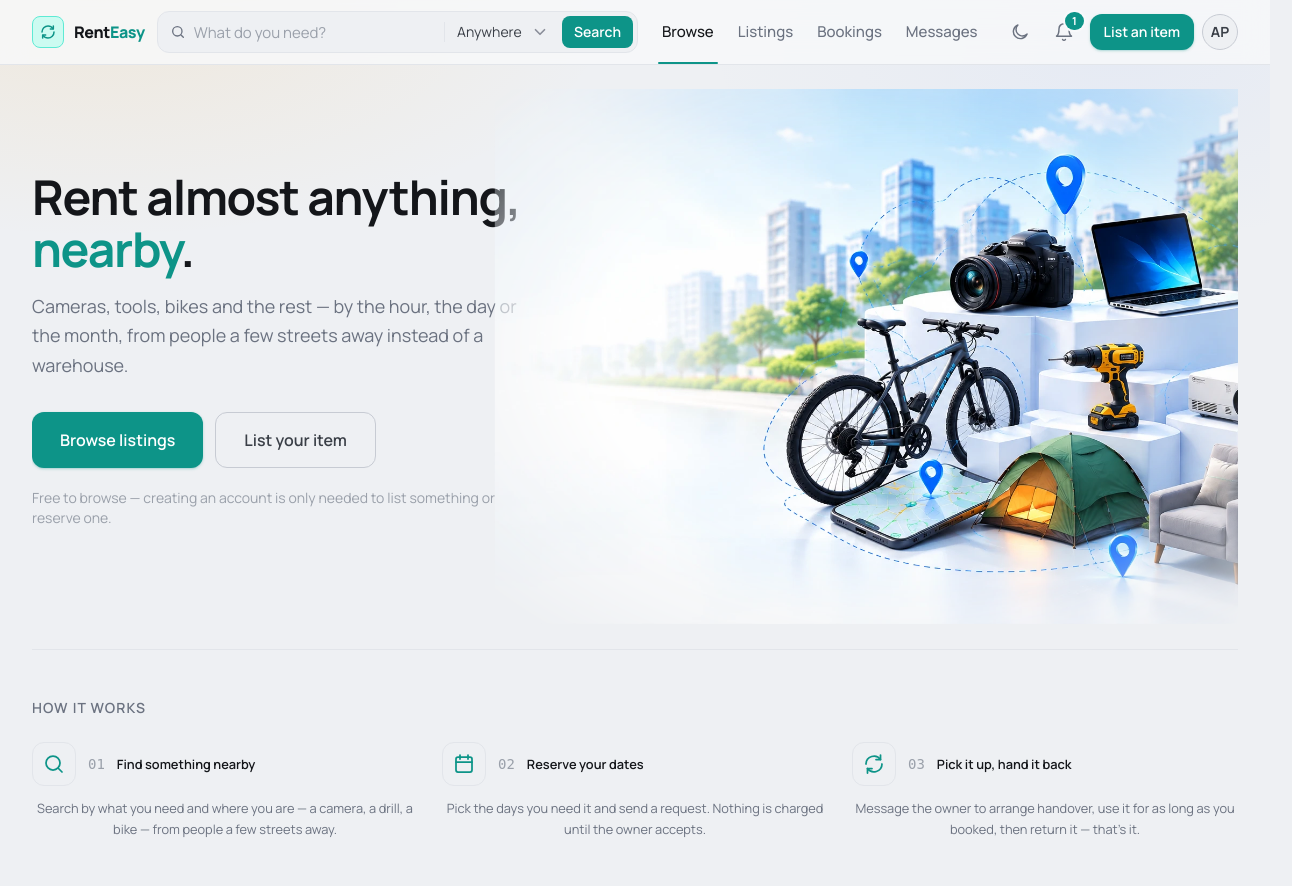
Scenario: the bell › fetches the list only once it is opened
What coordinates should you click on to do the following:
click the button named "1 unread"
I would click on:
 (1064, 32)
Its box is [1046,14,1082,50].
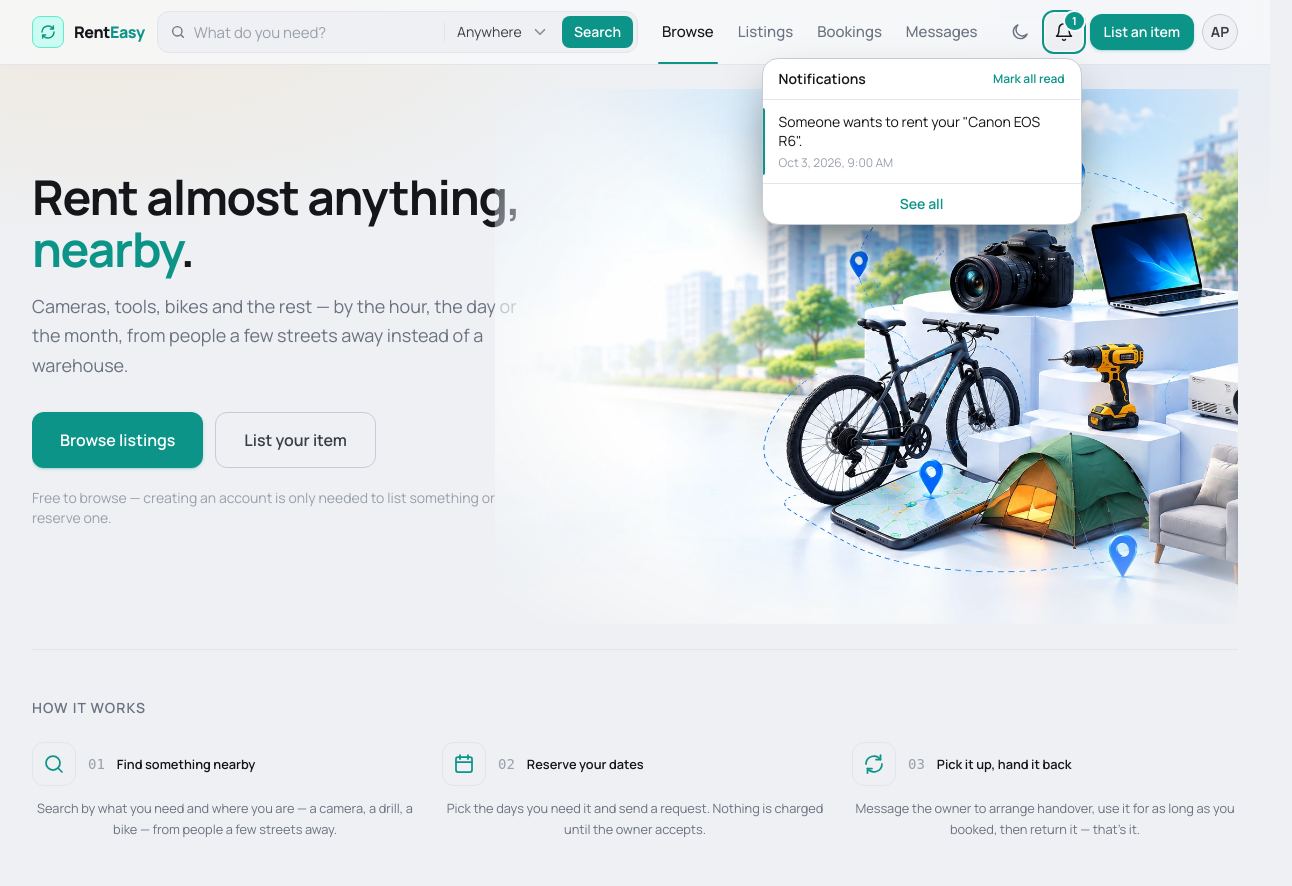
expect the text "Someone wants to rent your \"Canon EOS R6\"." is shown: met, box [779,112,1065,150]
